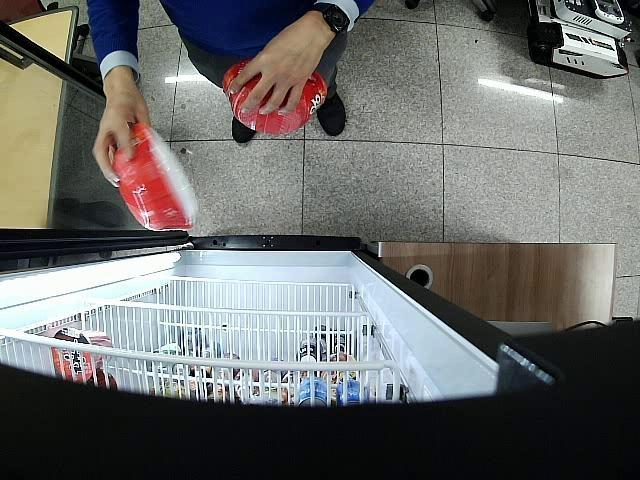10_wangTtukkeong: (112, 123, 196, 230), (224, 60, 326, 136)
